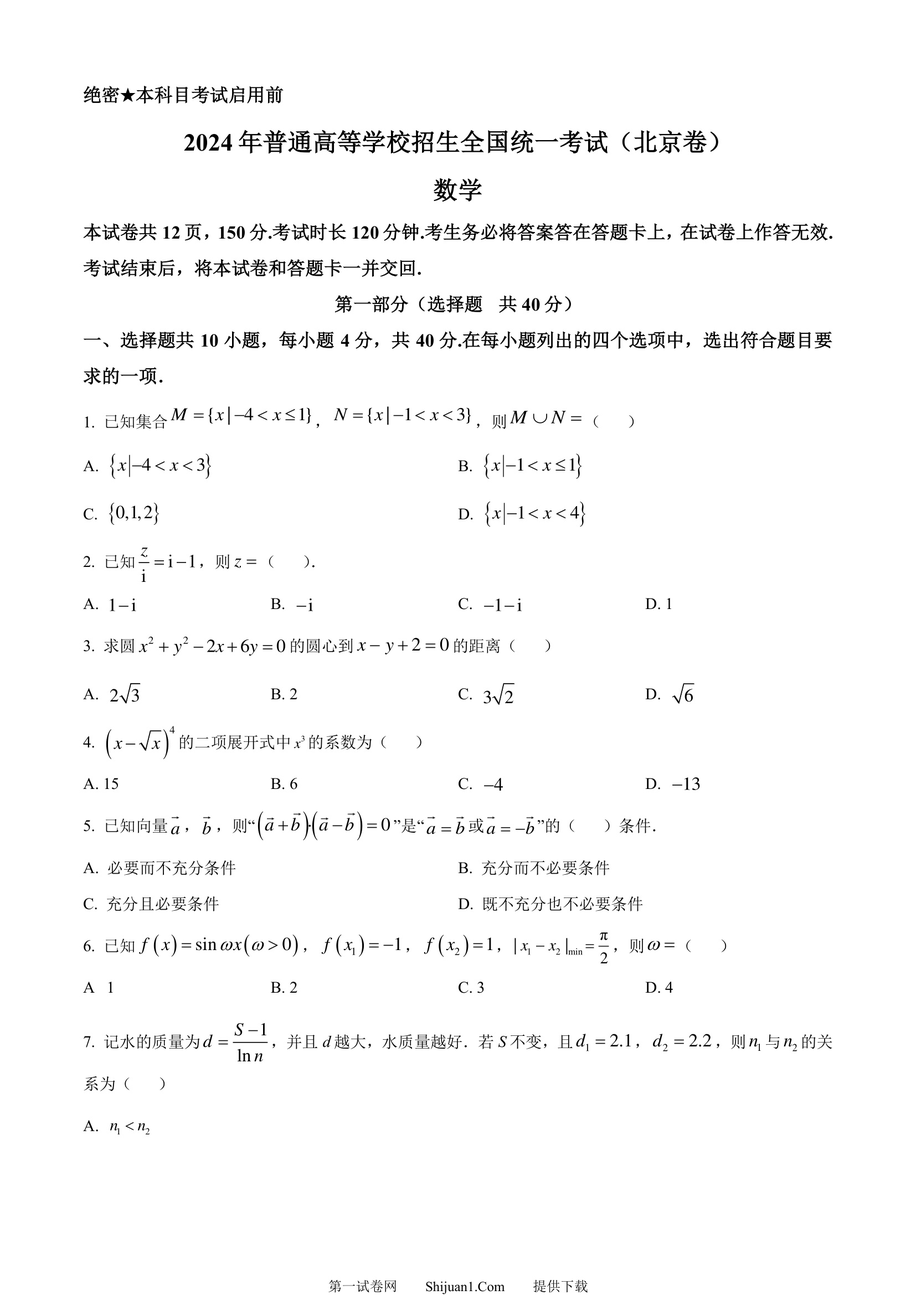question: (78, 1007, 853, 1154), (70, 401, 658, 540), (78, 805, 747, 926), (75, 540, 708, 632), (78, 926, 769, 1007), (75, 721, 730, 803), (75, 634, 723, 716)
